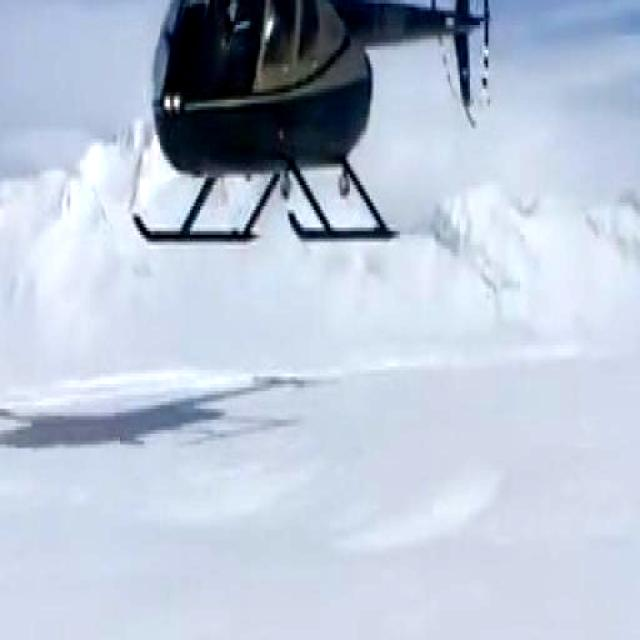drone: (131, 0, 495, 255)
